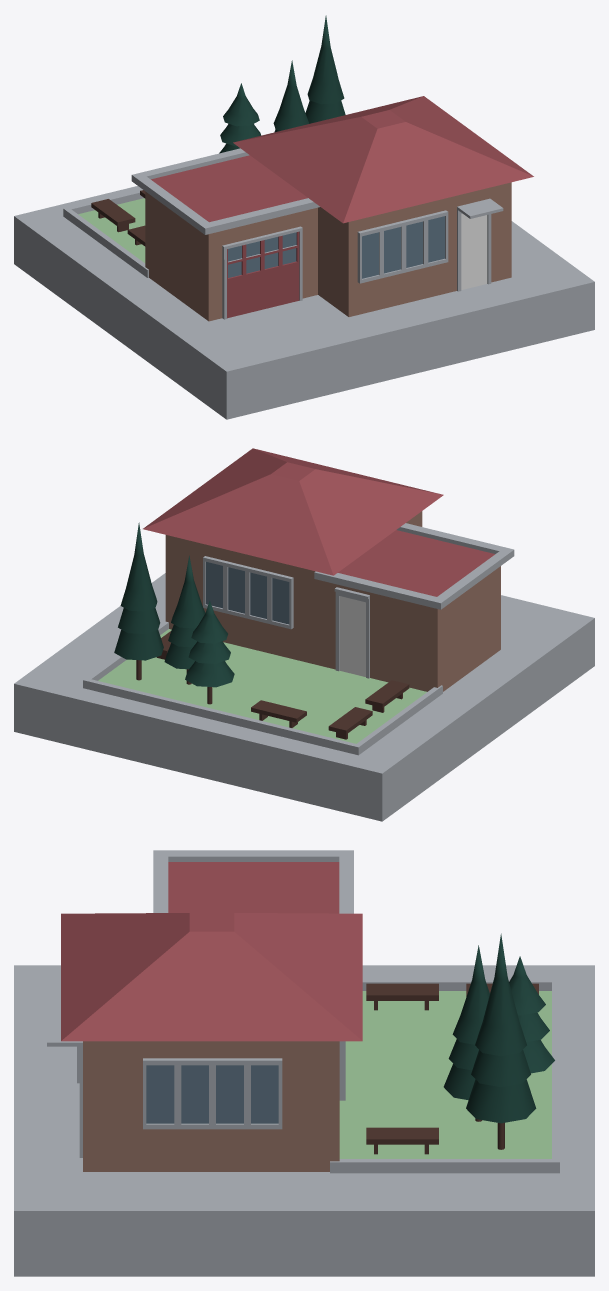
File: house_small1.glb
The picture shows the model from 3 angles, top to bottom: view 1: azimuth 30°, elevation 25°; view 2: azimuth 150°, elevation 25°; view 3: azimuth 270°, elevation 25°; orthographic projection. The views are drawn at different scales.
Parts seen in each view (by area): view 1: House_Small1; view 2: House_Small1; view 3: House_Small1.
Part boxes in pixels (x1=…): House_Small1: x1=14, y1=15, x2=594, y2=419; House_Small1: x1=14, y1=448, x2=594, y2=821; House_Small1: x1=14, y1=850, x2=594, y2=1276.
Bounding box in the file's own units: 1.47 × 0.7899 × 1.47.
